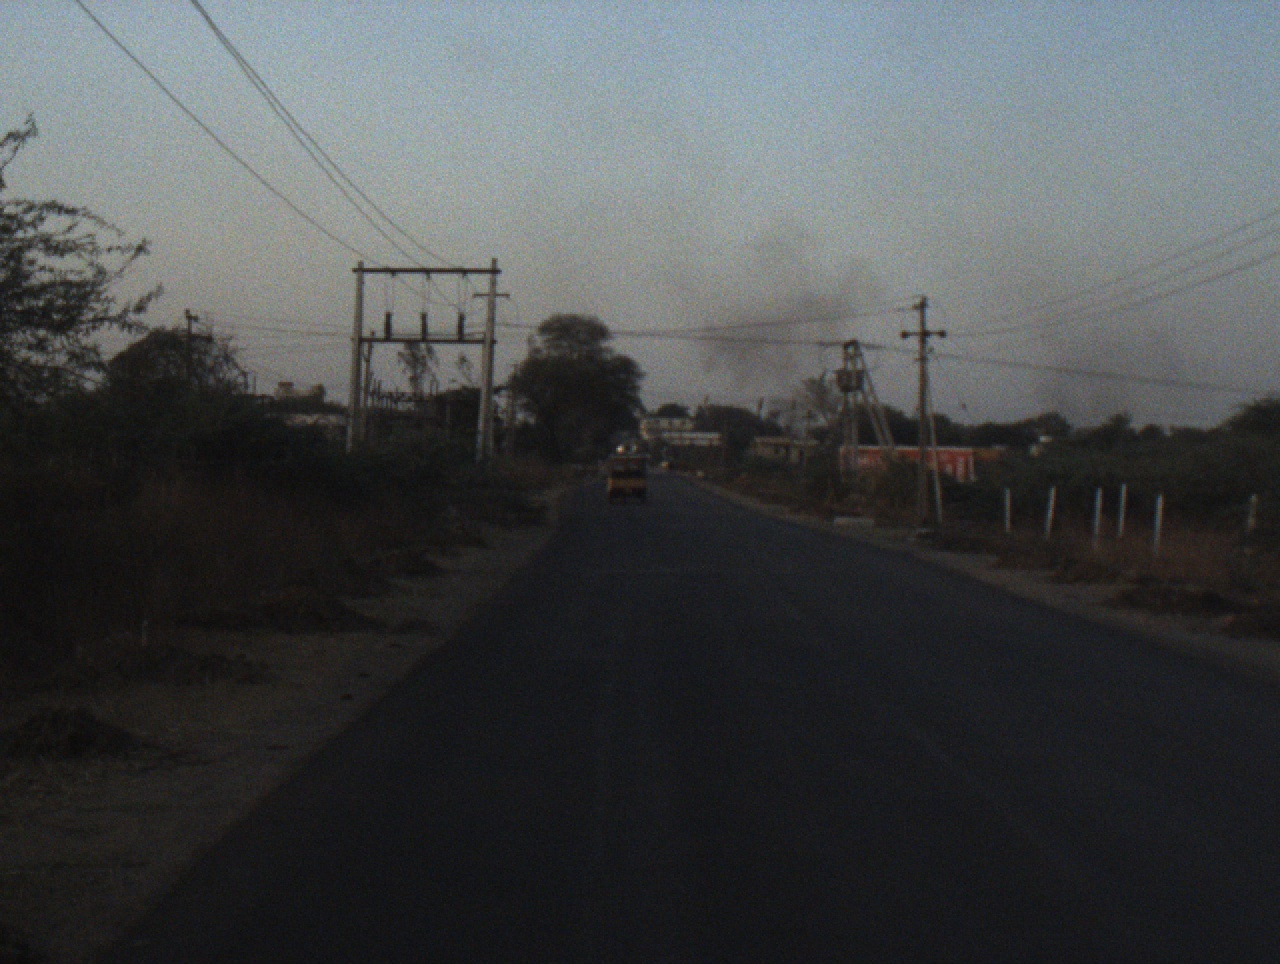autorickshaw: (602, 441, 655, 509)
